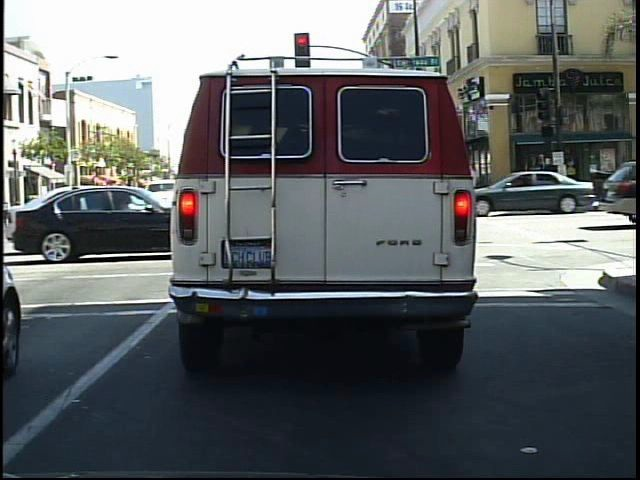person: (535, 154, 562, 208), (534, 148, 555, 209), (516, 157, 539, 204), (547, 158, 567, 208)
